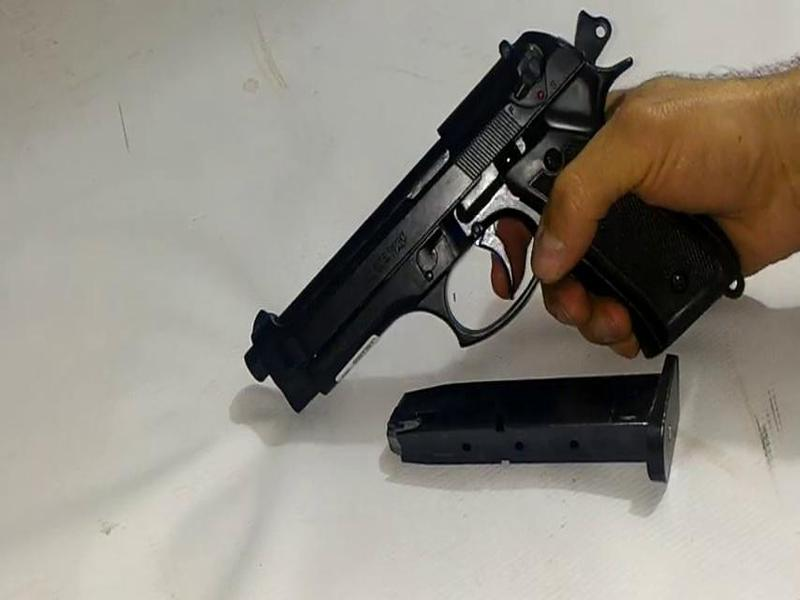Pistola: (223, 7, 750, 417)
